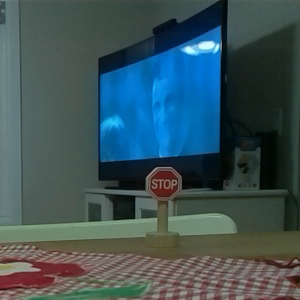stop sign: (143, 164, 184, 249)
